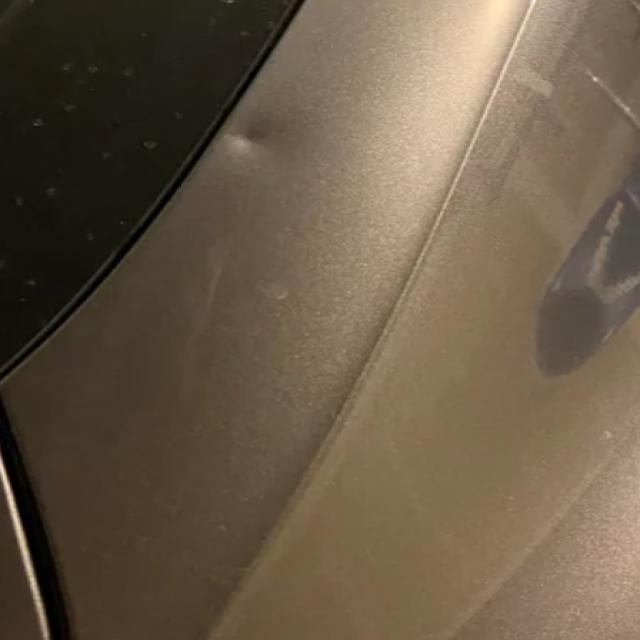dents: (212, 105, 308, 188)
